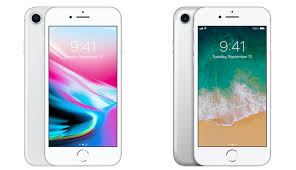iphone: (22, 3, 125, 168), (169, 1, 272, 165)
iphone7: (170, 1, 273, 166), (22, 2, 125, 167)
